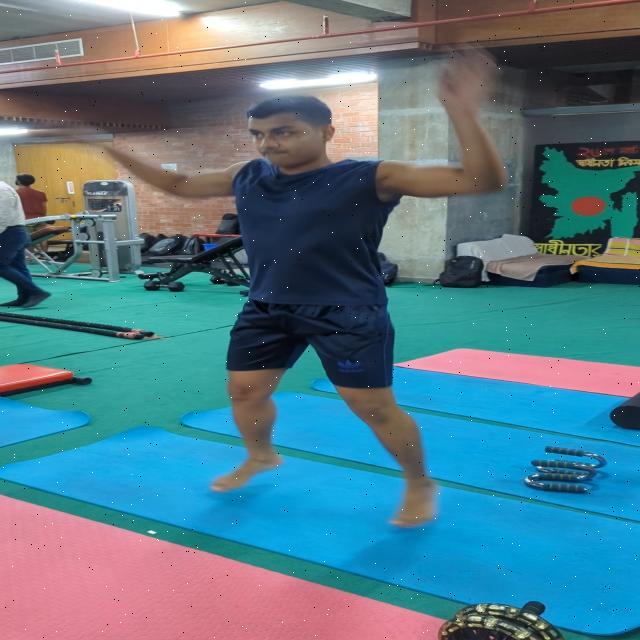Normal_JumpingJacks: (111, 67, 539, 546)
